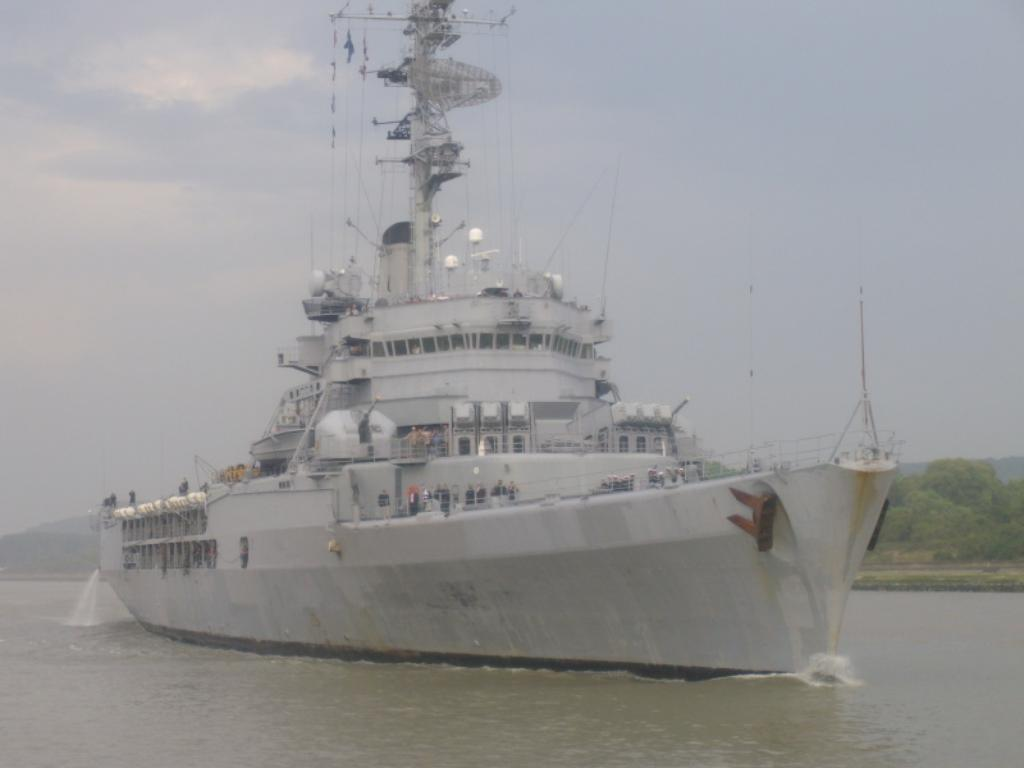Warship: (73, 2, 913, 680)
